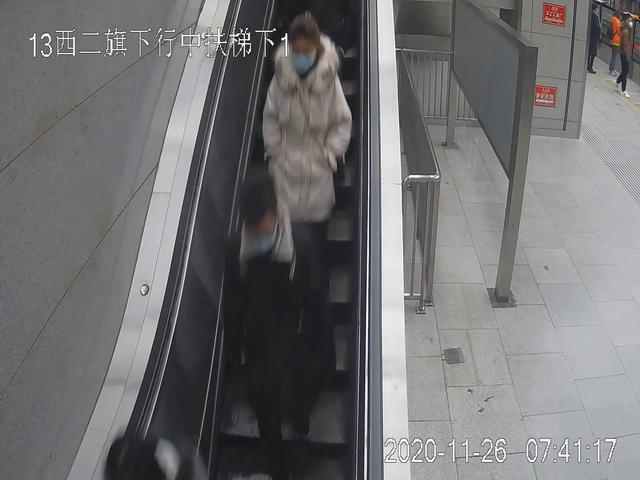person: (225, 176, 333, 480), (263, 14, 351, 294), (616, 13, 636, 99)
